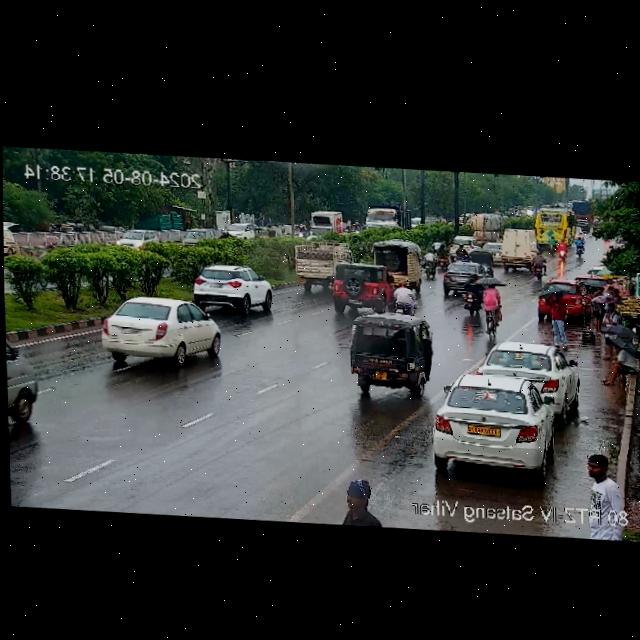bus: (536, 209, 575, 242)
car: (430, 371, 558, 477), (101, 289, 230, 365), (348, 308, 438, 400), (479, 341, 576, 414), (185, 257, 271, 313), (330, 260, 389, 312), (439, 258, 485, 295), (119, 224, 163, 252), (182, 224, 219, 248)
motorcycle: (479, 277, 503, 339), (394, 278, 418, 315), (464, 272, 480, 313), (428, 240, 448, 266), (424, 246, 436, 279), (546, 233, 556, 256), (557, 239, 569, 258), (574, 237, 584, 258)
person: (538, 286, 584, 346), (582, 448, 627, 503), (341, 474, 378, 525), (599, 346, 640, 386), (592, 280, 626, 326)
truck: (292, 234, 354, 287), (489, 228, 539, 275), (376, 239, 422, 286)
